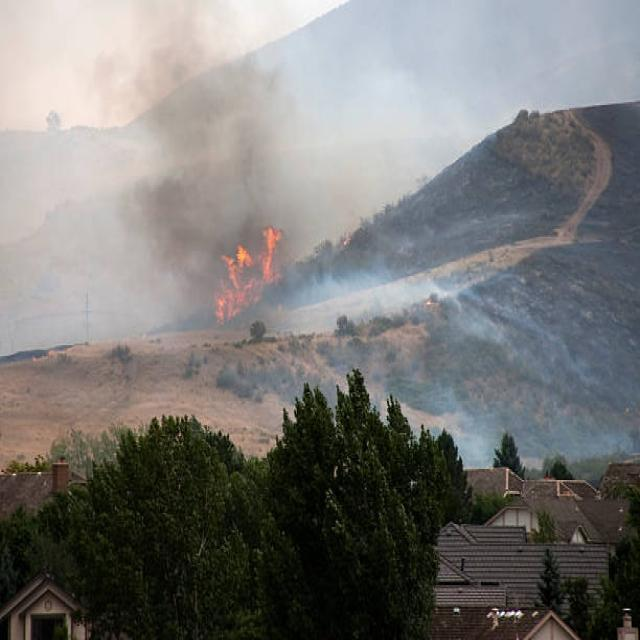Fire: (214, 225, 282, 322)
